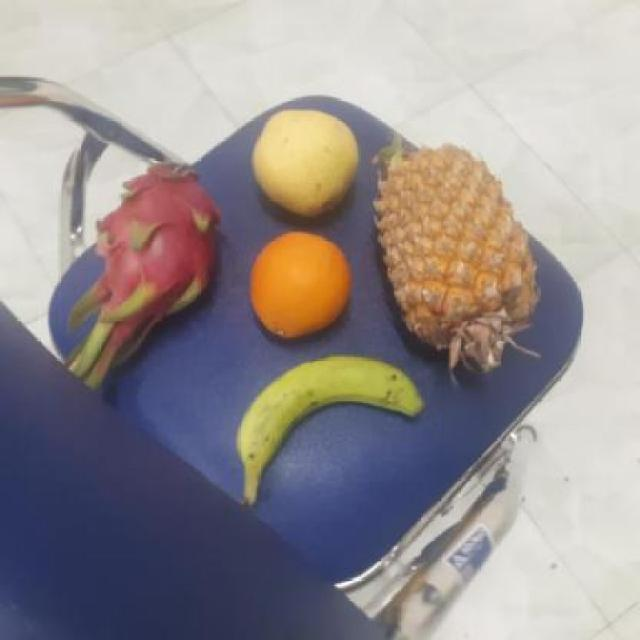banana: (235, 351, 422, 478)
dragon fruit: (90, 163, 221, 311)
oren: (245, 234, 352, 338)
pear: (247, 111, 361, 215)
pineapple: (367, 141, 536, 370)
